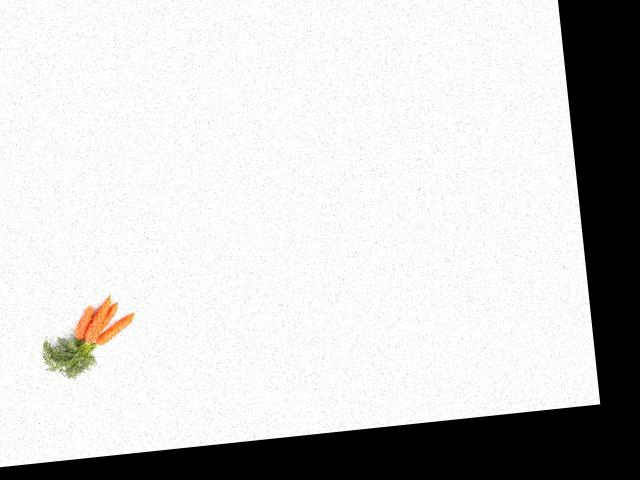carrot: (70, 305, 92, 340)
